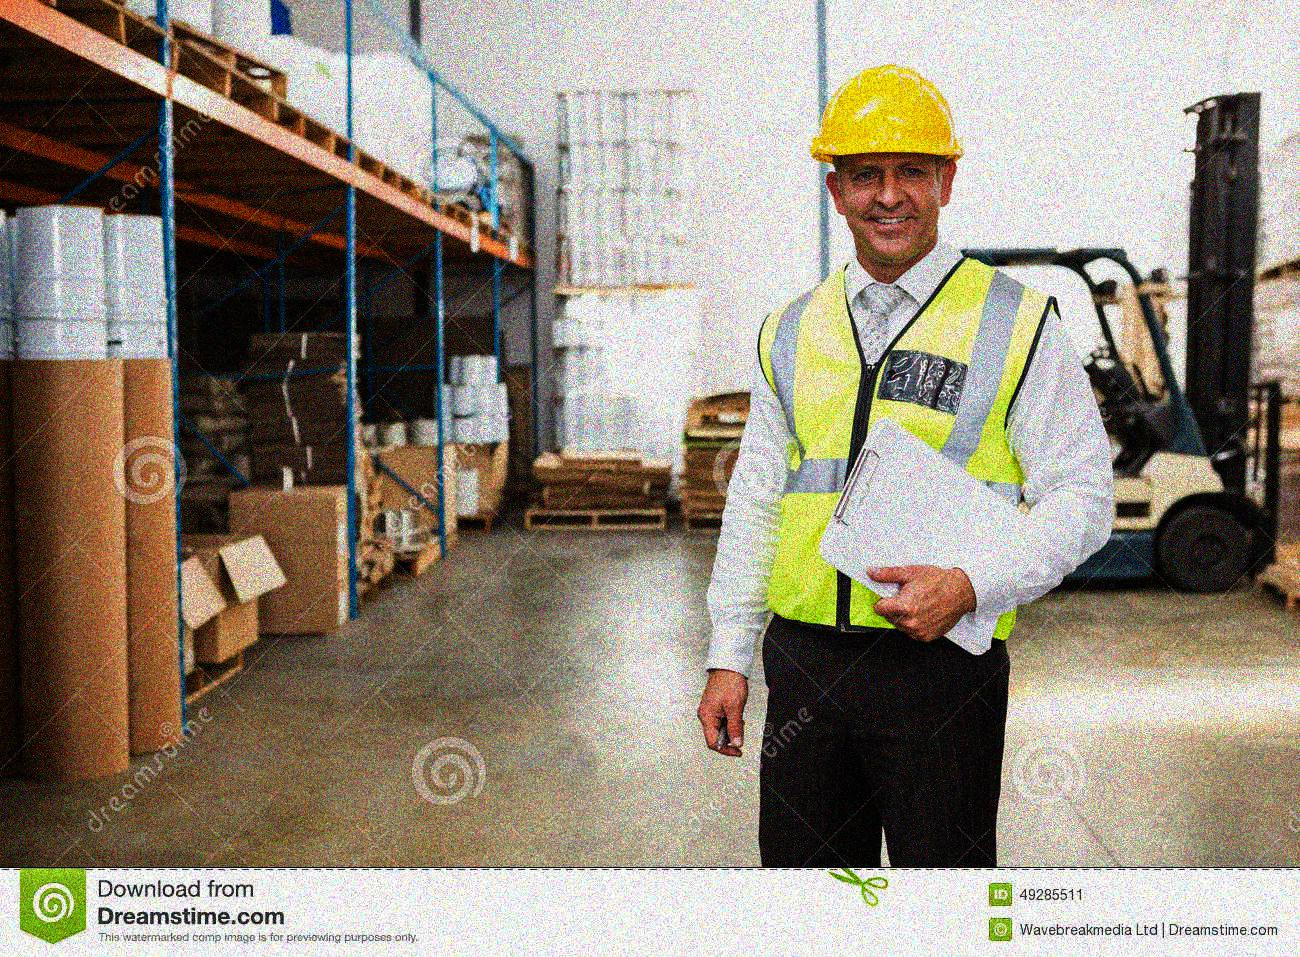helmet: (816, 63, 965, 265)
